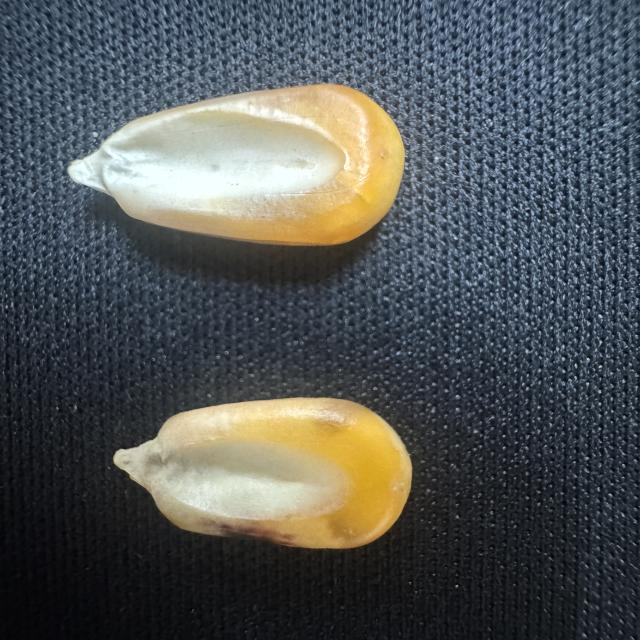Bad-Seed: (108, 389, 426, 563)
Good-Seed: (60, 76, 422, 262)
